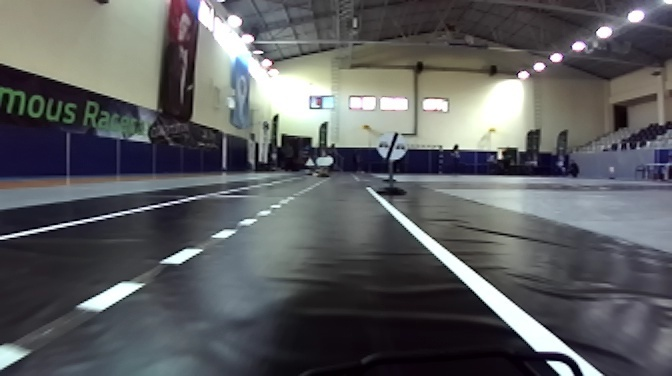sollama_serbest: (372, 130, 408, 161)
